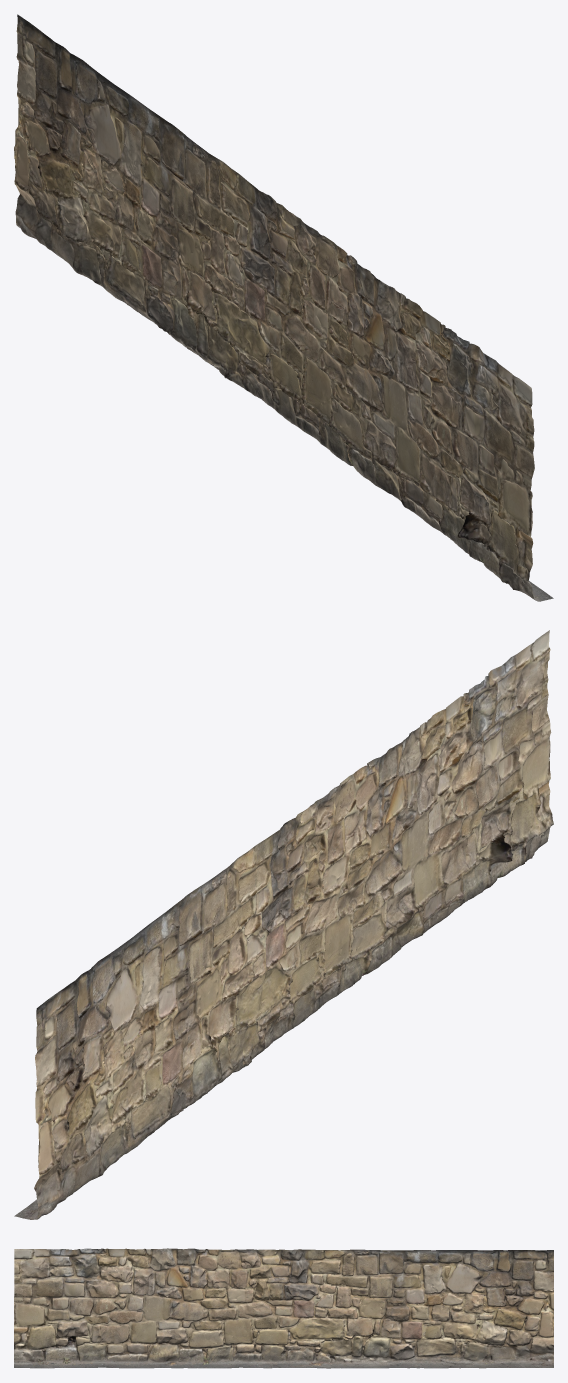
Rendered from wall.glb.
3 renders of one model, top to bottom at view 1: azimuth 30°, elevation 25°; view 2: azimuth 150°, elevation 25°; view 3: azimuth 270°, elevation 25°, orthographic. The views are drawn at different scales.
Bounding box in the file's own units: 0.4492 × 2.34 × 10.05.
Materials: 1 (1 with a texture image).
